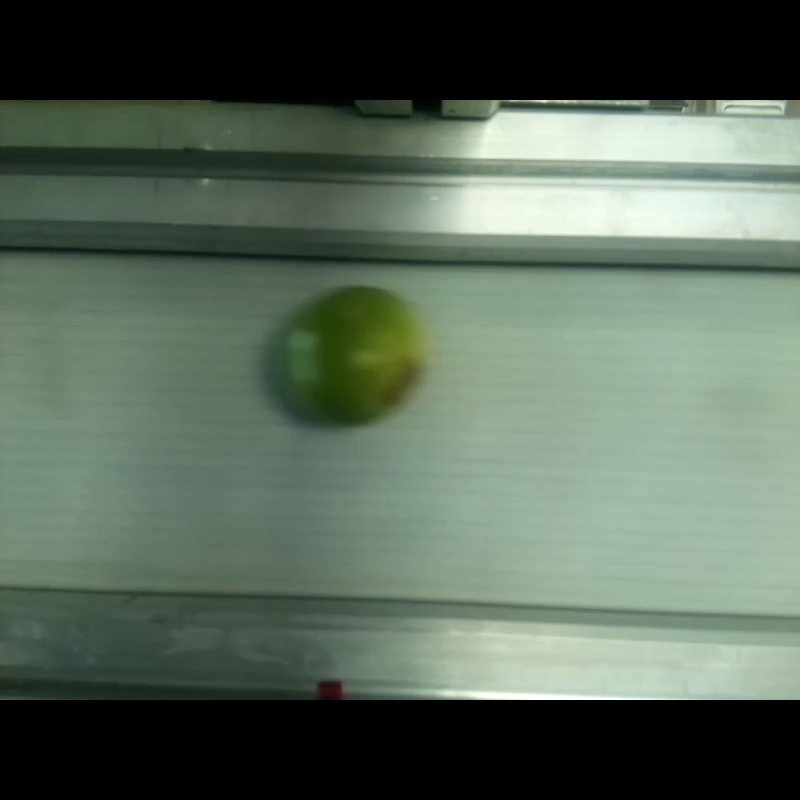lime: (271, 283, 429, 426)
